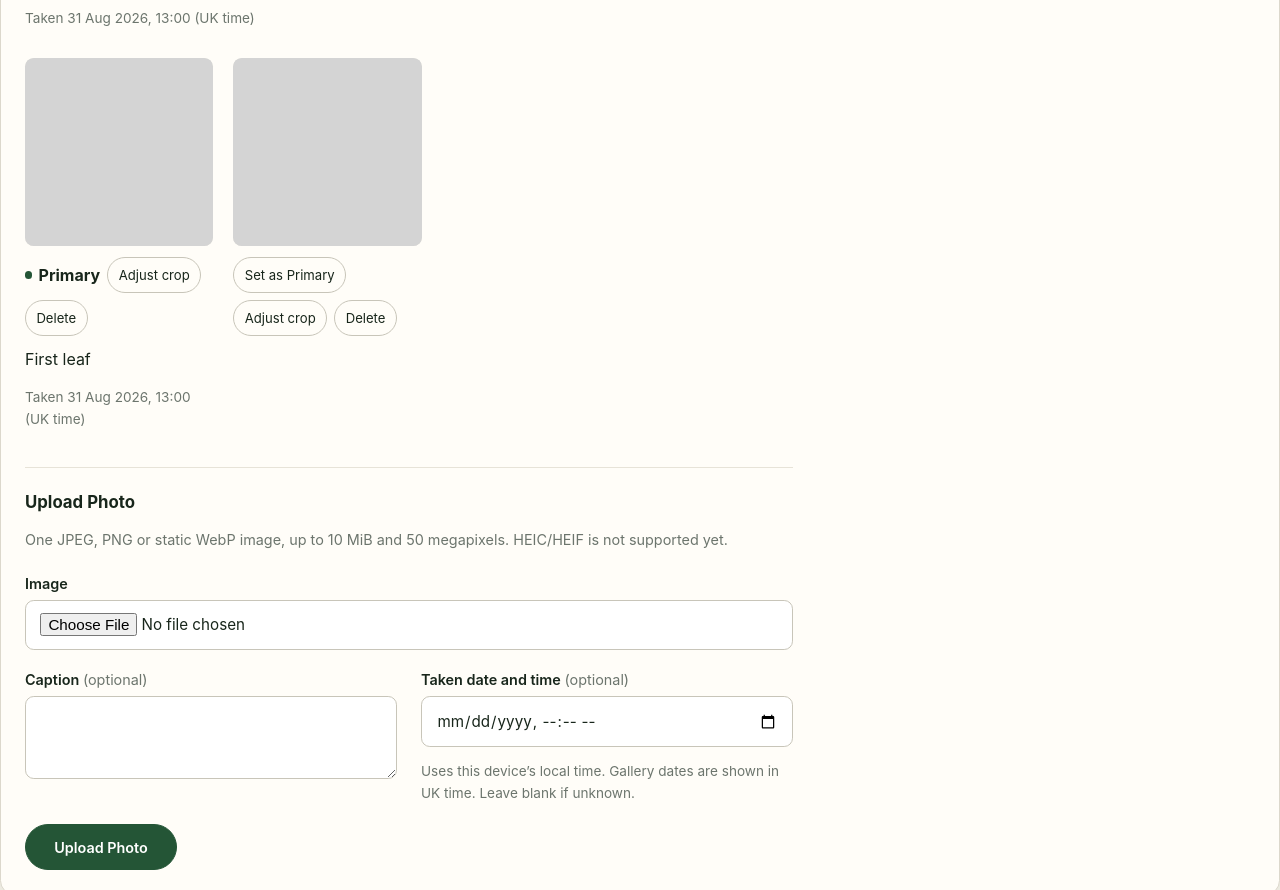
it: delete stale failure retains photo, confirmation and submitted text
The image size is (1280, 890).
(page scrolled)
In the text box labelled "Caption (optional)": (211, 738) [25,696,397,779], type "Draft"
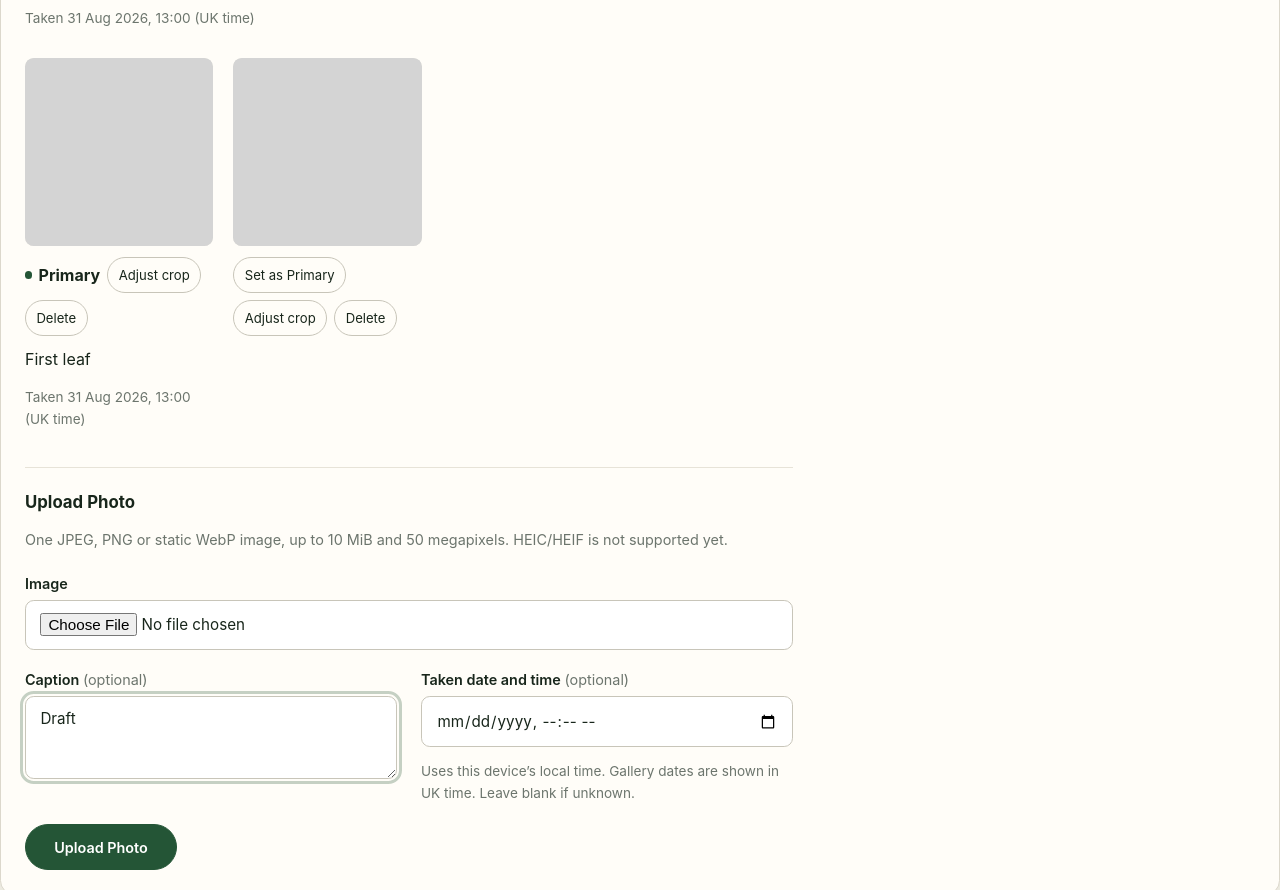
Click the button with aria-label "Delete photo 1": (56, 318) [25,300,88,336]
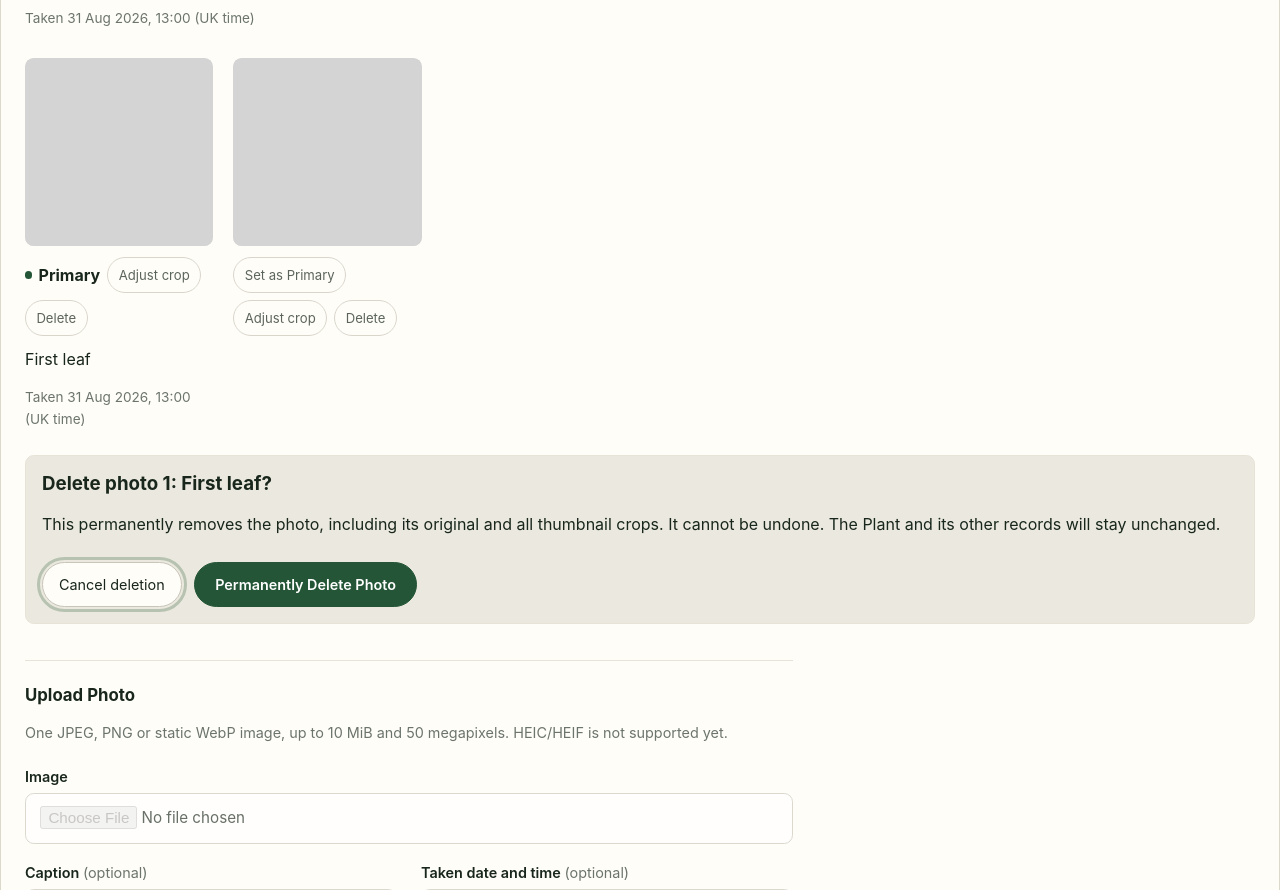
Click the button "Permanently Delete Photo": (306, 584) [194,562,417,607]
(page scrolled)
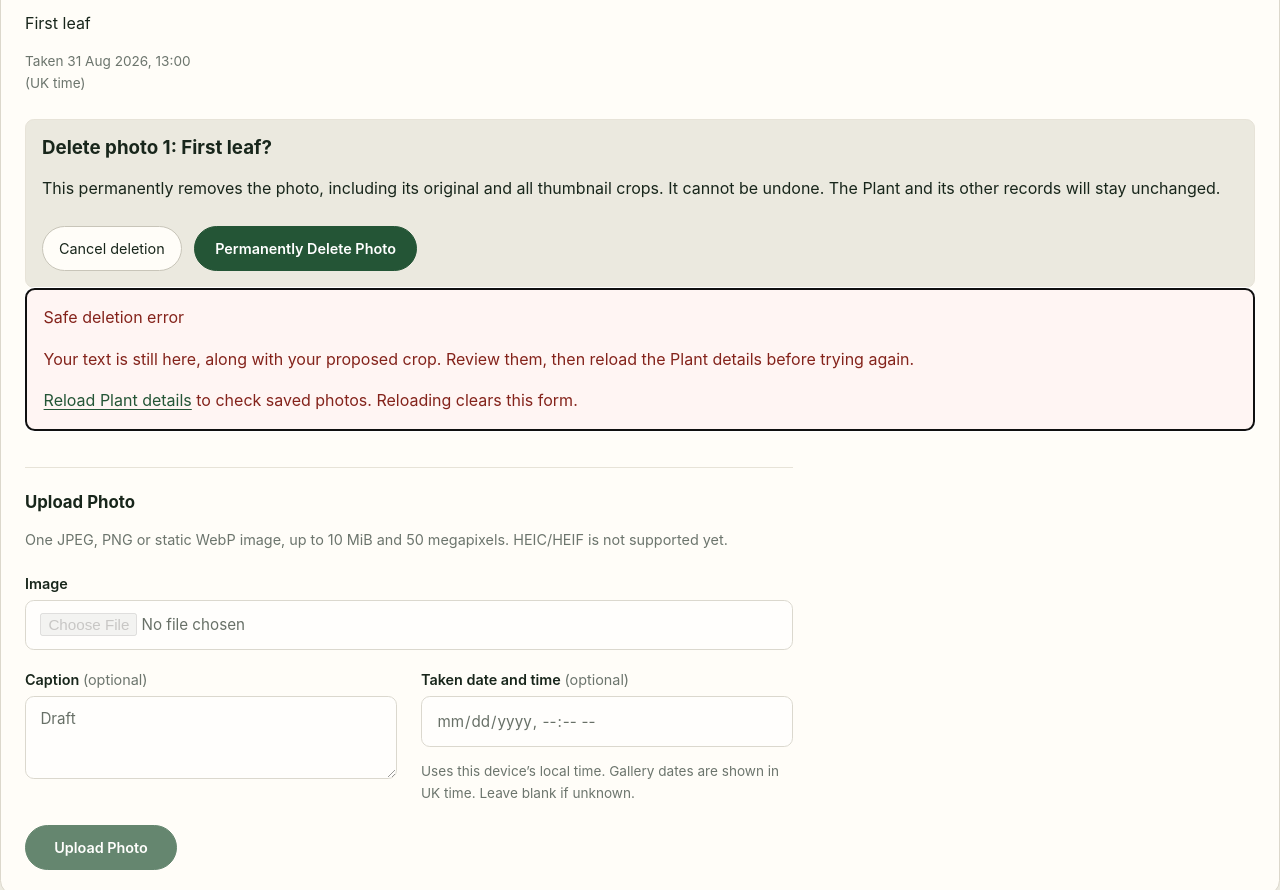
Expected: the message does not show "secret provider detail", [25,288,1255,431]
Expected: the button "Permanently Delete Photo" is enabled, [194,226,417,271]
Expected: the link "Reload Plant details" is shown, [44,390,192,410]
